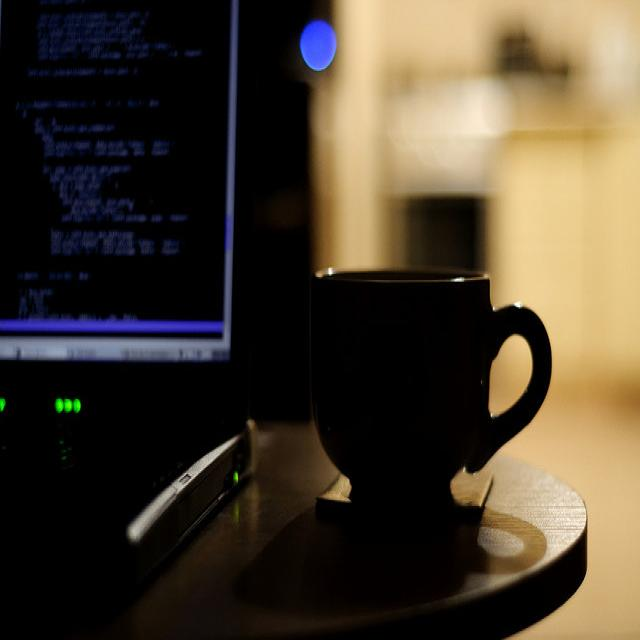Cup: (307, 254, 551, 537)
Table: (0, 324, 596, 640)
